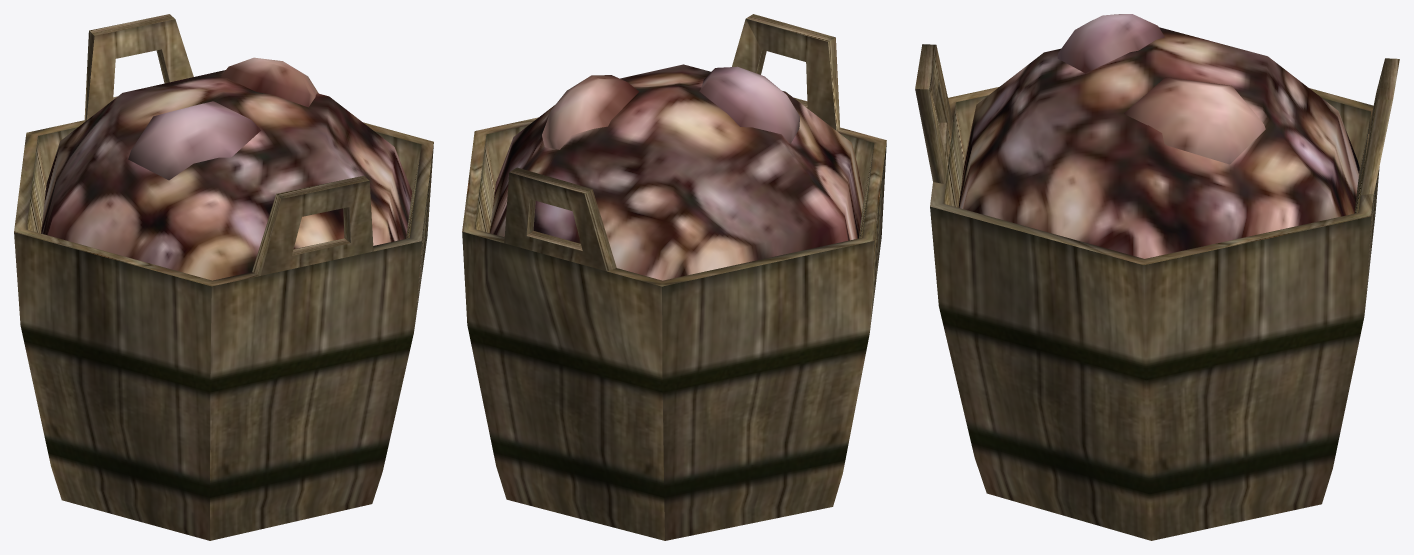
File: potatobucket.fbx
3 renders of one model, left to right at view 1: azimuth 30°, elevation 25°; view 2: azimuth 150°, elevation 25°; view 3: azimuth 270°, elevation 25°, orthographic. The views are drawn at different scales.
Parts seen in each view (by area): view 1: bucket, potato_pile, potato_02, potato_01; view 2: bucket, potato_pile, potato_02, potato_01; view 3: bucket, potato_pile, potato_01, potato_02.
Part boxes in pixels (x1,y1,x2,y2): bucket: (14,14,433,540); potato_pile: (41,70,411,280); potato_02: (128,101,260,180); potato_01: (221,57,318,107); bucket: (462,14,886,540); potato_pile: (489,64,864,280); potato_02: (699,66,799,143); potato_01: (542,75,638,149); bucket: (915,44,1399,540); potato_pile: (958,27,1359,258); potato_01: (1124,77,1265,164); potato_02: (1057,14,1164,73).
Size of the model in its own units: 304 by 273 by 290.
Materials: 1 (1 with a texture image).
